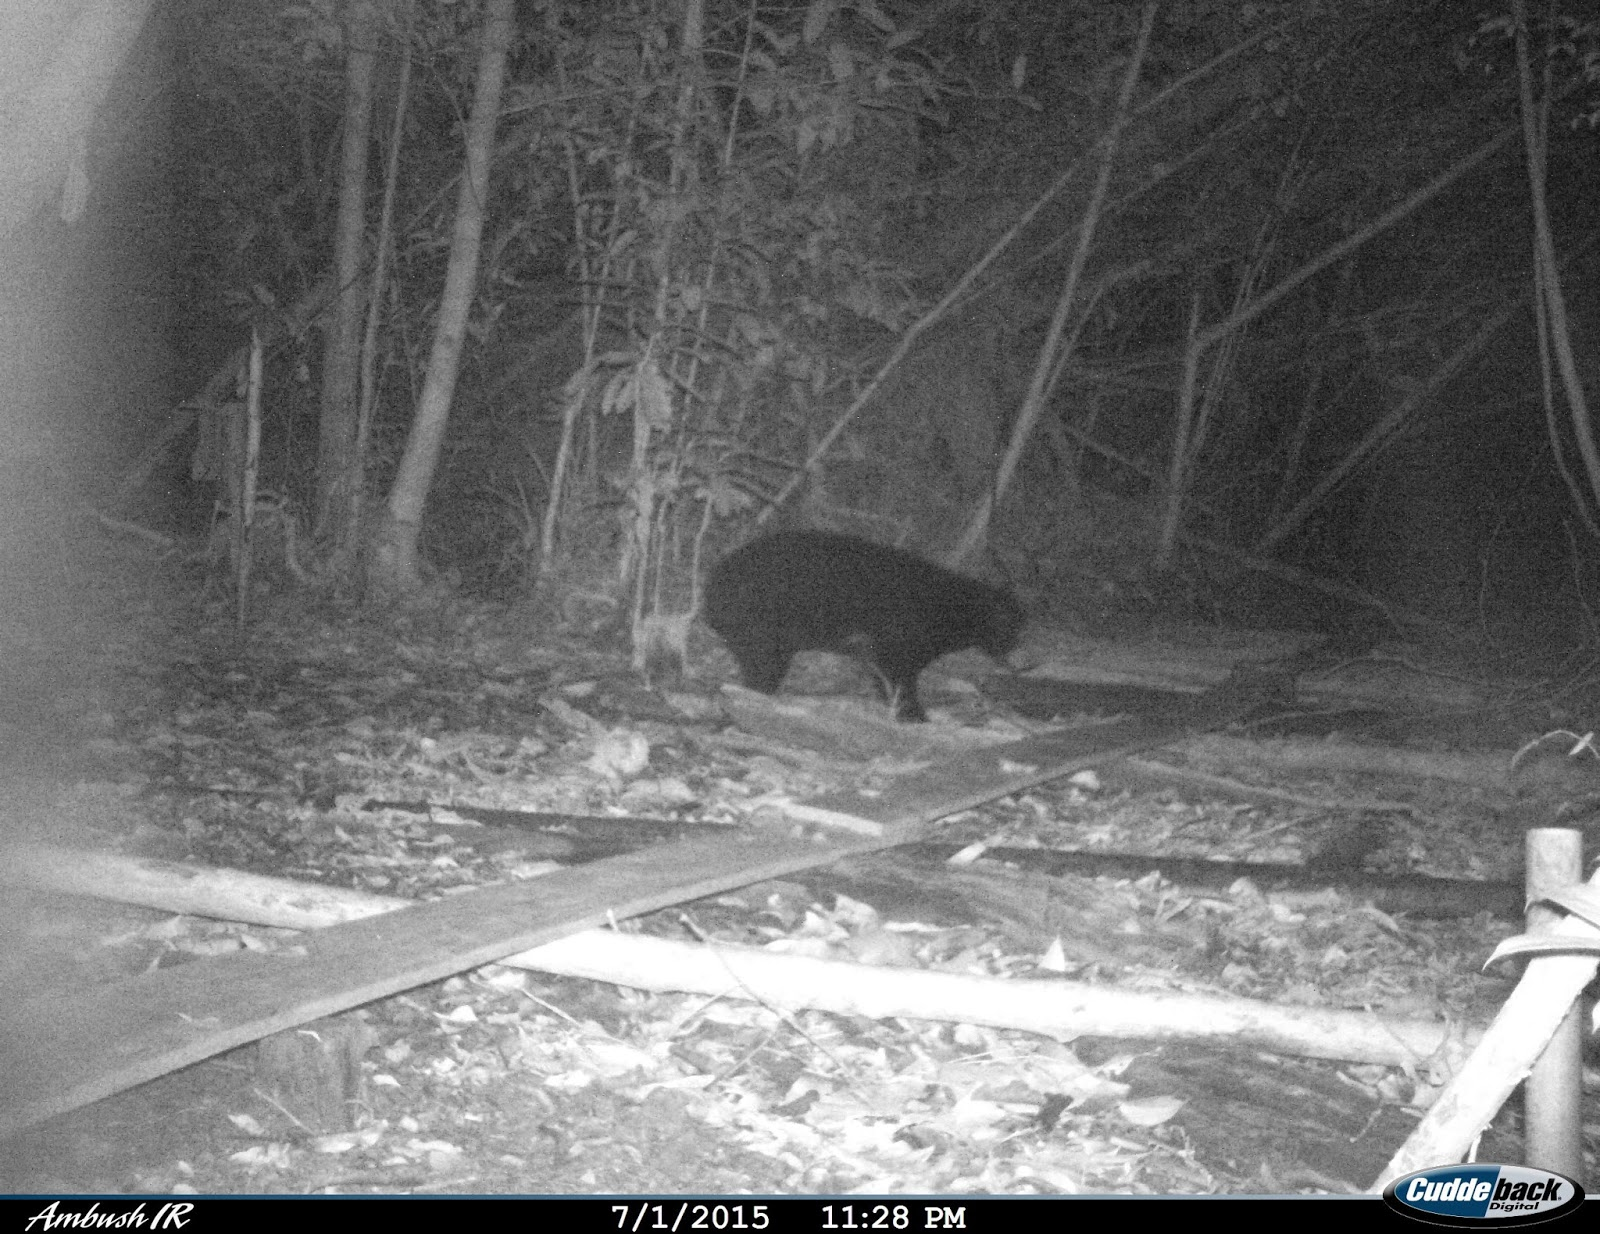bear: (632, 483, 1046, 693)
